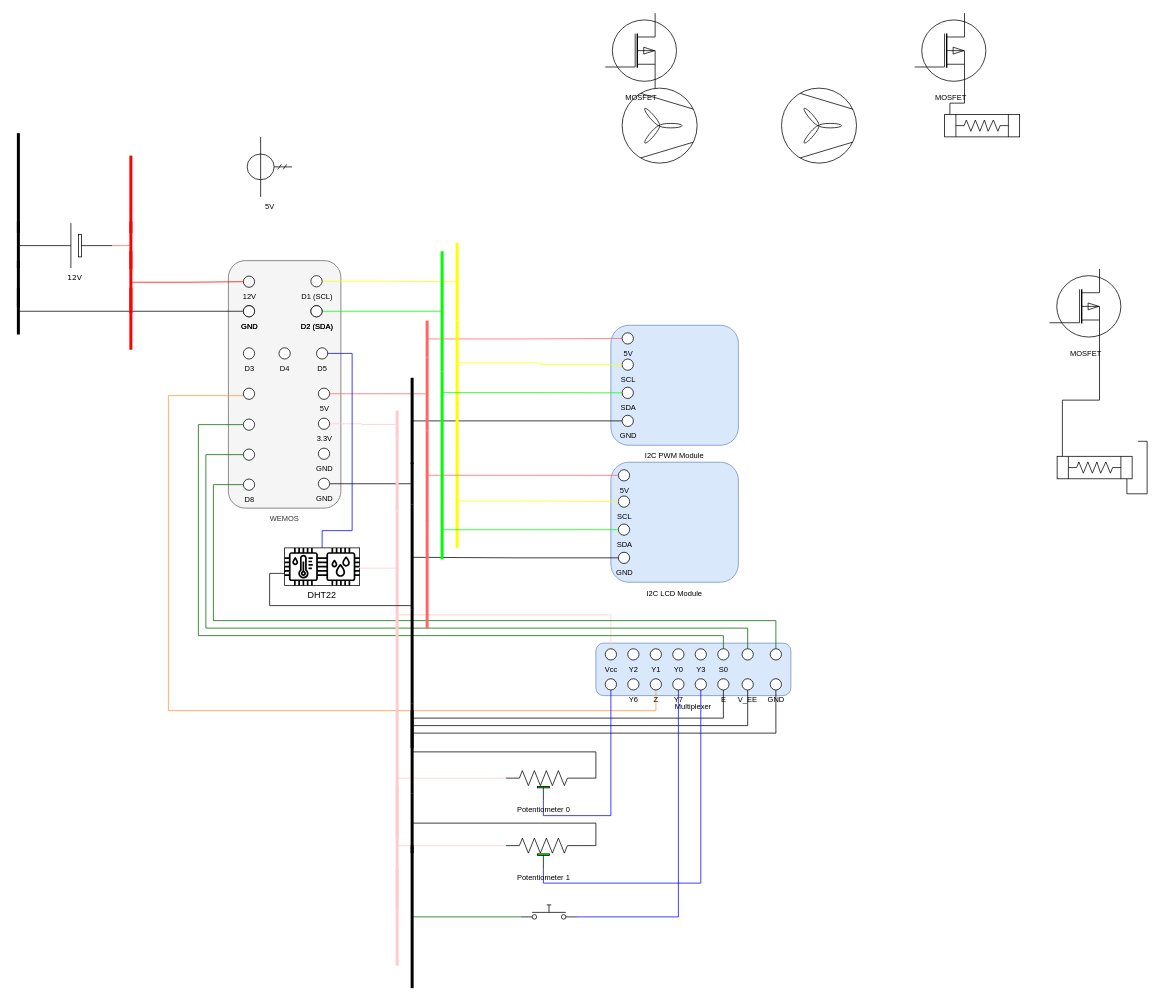
Some shapes in this 1161 by 1003 pixel diagram are drawn without their labels. Here are the shapes that lost their labels. From the top down, the centre of each, then its label:
At (x=982, y=125): "Heat exchange".
At (x=249, y=393): "A0".
At (x=249, y=424): "D6".
At (x=249, y=454): "D7".
At (x=1094, y=467): "Humidity module".
At (x=747, y=654): "S1".
At (x=776, y=654): "S2".
At (x=610, y=684): "Y4".
At (x=700, y=684): "Y5".
At (x=548, y=912): "Button 0".
